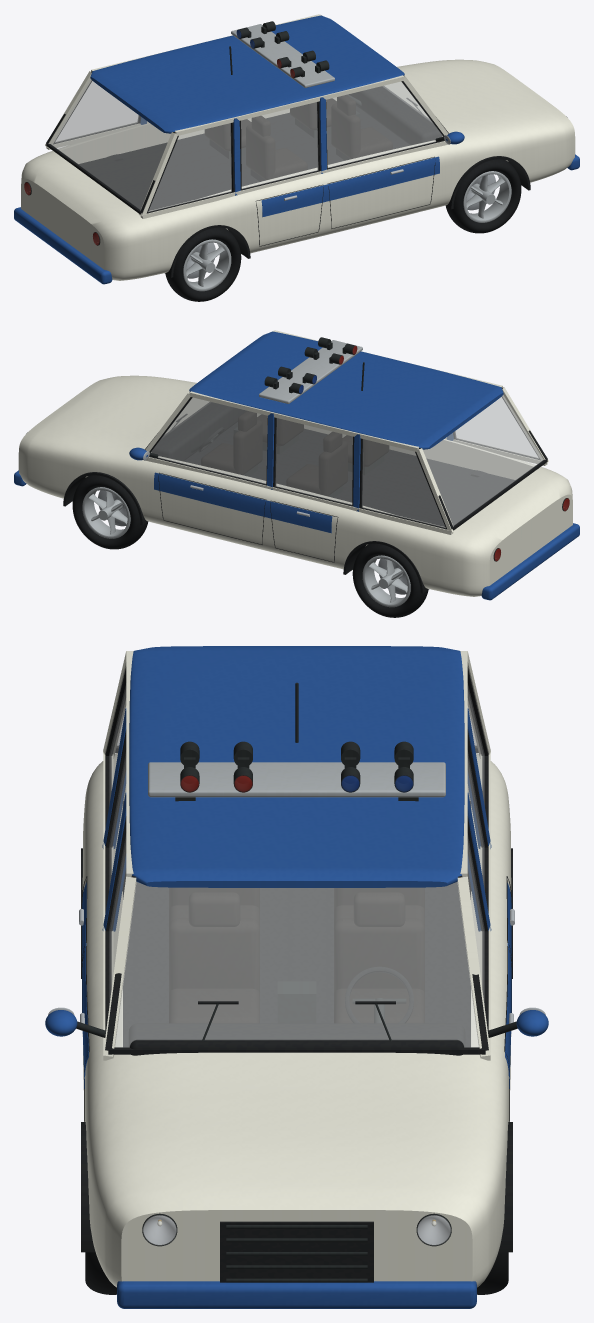
Rendered from police-tahoe.glb.
3 renders of one model, top to bottom at view 1: azimuth 30°, elevation 25°; view 2: azimuth 150°, elevation 25°; view 3: azimuth 270°, elevation 25°, orthographic. The views are drawn at different scales.
Parts seen in each view (by area): view 1: Patrol headlamp 1 finite white bulb envelope, Patrol front door glazing 1 finite transparent pane, Patrol bumper 1, Patrol cabin floor, Patrol seat back 0 1, Patrol headrest stem 0 1 320, Patrol wheel 1510.0 1 rounded tyre carcass, Patrol axle beam 1510.0, Patrol handle seated foot 1 500 445; view 2: Patrol headlamp 1 finite white bulb envelope, Patrol front door glazing 1 finite transparent pane, Patrol bumper 1, Patrol cabin floor, Patrol seat back 0 1, Patrol headrest stem 0 1 320, Patrol wheel 1510.0 1 rounded tyre carcass, Patrol axle beam 1510.0, Patrol handle seated foot 1 500 445; view 3: Patrol headlamp 1 finite white bulb envelope, Patrol bumper 1, Patrol front door glazing 1 finite transparent pane, Patrol cabin floor, Patrol seat back 0 1, Patrol axle beam 1510.0, Patrol headrest stem 0 1 320, Patrol handle seated foot 1 500 445, Patrol headlamp 1 finite curved optic, Patrol wheel 1510.0 1 rounded tyre carcass, Patrol steering rim.
Boxes of the visible parts, x1=… form: Patrol headlamp 1 finite white bulb envelope: x1=21, y1=14, x2=575, y2=280; Patrol front door glazing 1 finite transparent pane: x1=50, y1=79, x2=442, y2=211; Patrol bumper 1: x1=14, y1=15, x2=579, y2=284; Patrol cabin floor: x1=46, y1=71, x2=530, y2=277; Patrol seat back 0 1: x1=204, y1=95, x2=392, y2=180; Patrol headrest stem 0 1 320: x1=183, y1=24, x2=511, y2=291; Patrol wheel 1510.0 1 rounded tyre carcass: x1=165, y1=159, x2=521, y2=301; Patrol axle beam 1510.0: x1=24, y1=21, x2=567, y2=245; Patrol handle seated foot 1 500 445: x1=186, y1=135, x2=495, y2=278; Patrol headlamp 1 finite white bulb envelope: x1=18, y1=330, x2=572, y2=596; Patrol front door glazing 1 finite transparent pane: x1=151, y1=395, x2=543, y2=527; Patrol bumper 1: x1=14, y1=331, x2=579, y2=600; Patrol cabin floor: x1=63, y1=387, x2=547, y2=593; Patrol seat back 0 1: x1=201, y1=411, x2=389, y2=496; Patrol headrest stem 0 1 320: x1=82, y1=340, x2=410, y2=607; Patrol wheel 1510.0 1 rounded tyre carcass: x1=72, y1=475, x2=428, y2=617; Patrol axle beam 1510.0: x1=26, y1=337, x2=569, y2=561; Patrol handle seated foot 1 500 445: x1=98, y1=451, x2=407, y2=594; Patrol headlamp 1 finite white bulb envelope: x1=82, y1=651, x2=511, y2=1287; Patrol bumper 1: x1=45, y1=646, x2=548, y2=1308; Patrol front door glazing 1 finite transparent pane: x1=109, y1=686, x2=484, y2=1047; Patrol cabin floor: x1=81, y1=667, x2=512, y2=1282; Patrol seat back 0 1: x1=169, y1=887, x2=424, y2=1023; Patrol axle beam 1510.0: x1=76, y1=682, x2=517, y2=1282; Patrol headrest stem 0 1 320: x1=148, y1=762, x2=445, y2=797; Patrol handle seated foot 1 500 445: x1=48, y1=909, x2=545, y2=1244; Patrol headlamp 1 finite curved optic: x1=143, y1=1215, x2=450, y2=1245; Patrol wheel 1510.0 1 rounded tyre carcass: x1=85, y1=1252, x2=508, y2=1294; Patrol steering rim: x1=198, y1=966, x2=413, y2=1023.
Size of the model in its own units: 5.16 by 2.07 by 2.35.
Materials: 14 (10 with a texture image).
